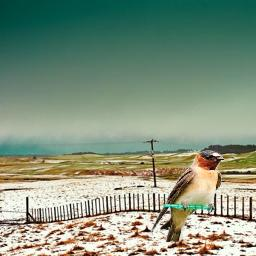Swallow: (150, 150, 224, 242)
